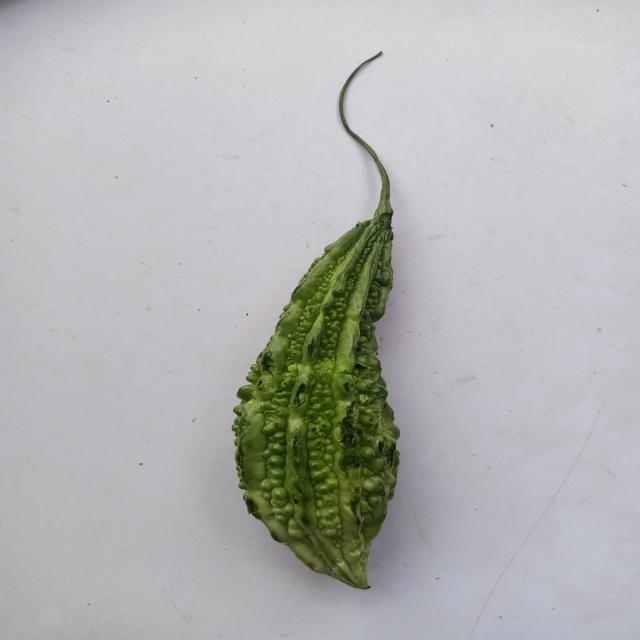Bitter Gourd: (228, 32, 422, 592)
